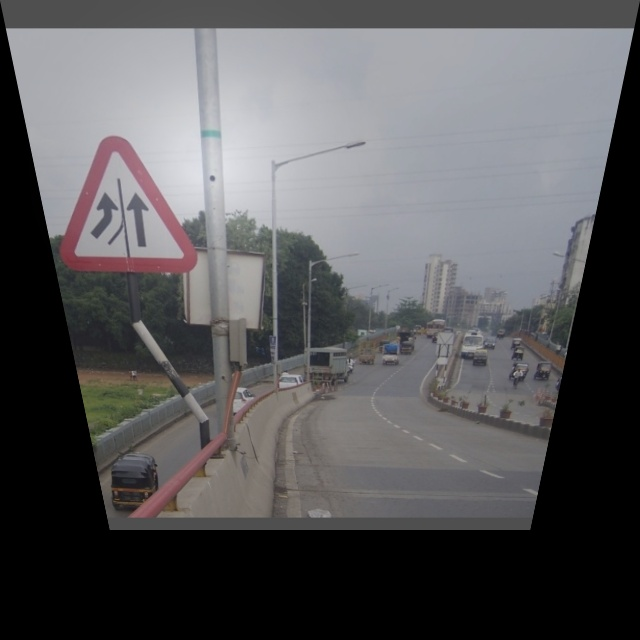Merge_Traffic_Ahead: (51, 124, 182, 280)
